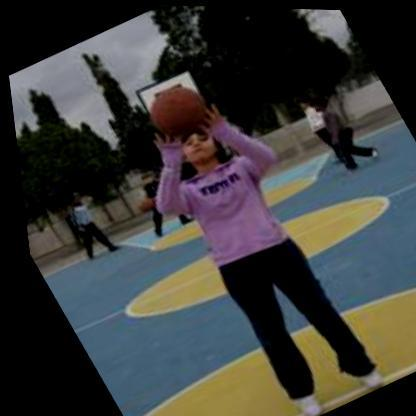basketball: (136, 76, 215, 145)
